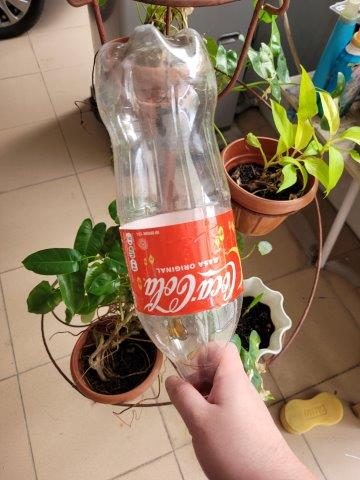botolplastik: (93, 26, 245, 385)
